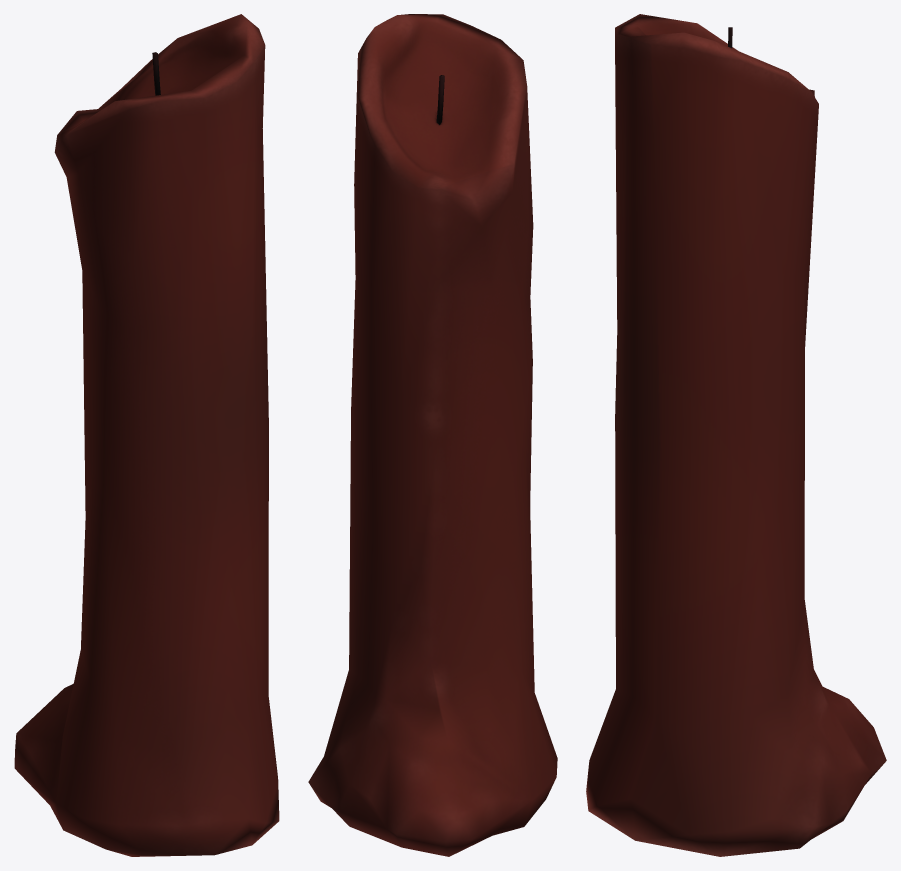
Rendered from SM_Candles_4.fbx.
3 views of the same model, side by side, from view 1: azimuth 30°, elevation 25°; view 2: azimuth 150°, elevation 25°; view 3: azimuth 270°, elevation 25° (orthographic). The views are drawn at different scales.
Visible parts, largest first — view 1: SM_Candles_4_LOD0; view 2: SM_Candles_4_LOD0; view 3: SM_Candles_4_LOD0.
Boxes of the visible parts, bbox=[...] form: SM_Candles_4_LOD0: bbox=[14, 14, 279, 856]; SM_Candles_4_LOD0: bbox=[308, 14, 557, 856]; SM_Candles_4_LOD0: bbox=[586, 14, 886, 856].
Size of the model in its own units: 10.51 by 12.81 by 38.3.
